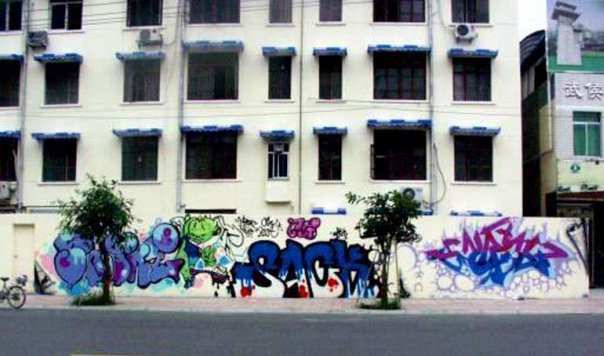graffity: (414, 215, 586, 299), (49, 219, 186, 290), (229, 239, 382, 299), (166, 214, 248, 299), (233, 213, 285, 239), (286, 215, 321, 240)
